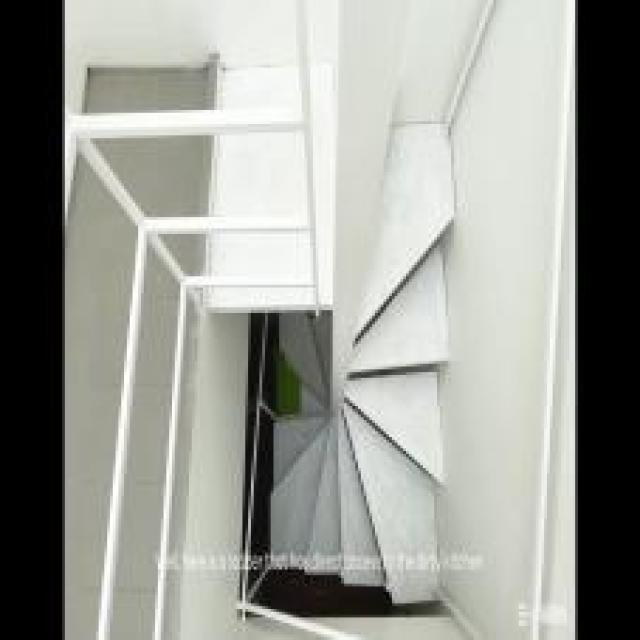downstair: (374, 215, 464, 607)
